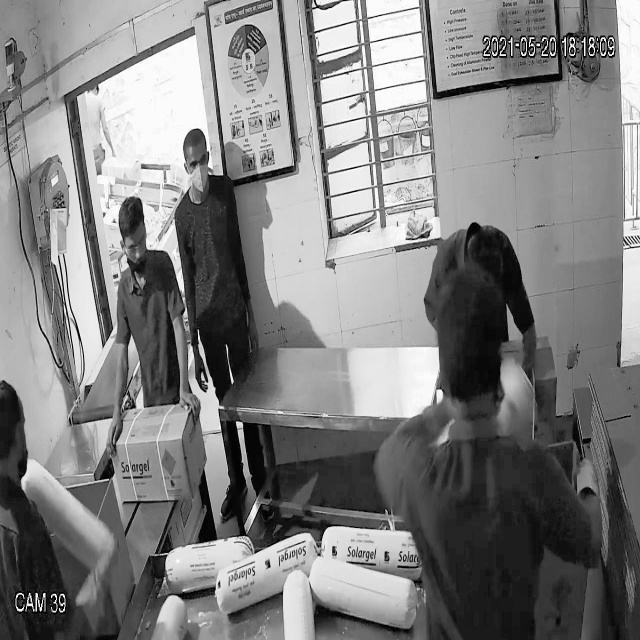Gafas: (120, 232, 152, 258)
Sin_gafas: (181, 145, 214, 172)
